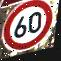Speed Limit -60-: (0, 0, 57, 57)
